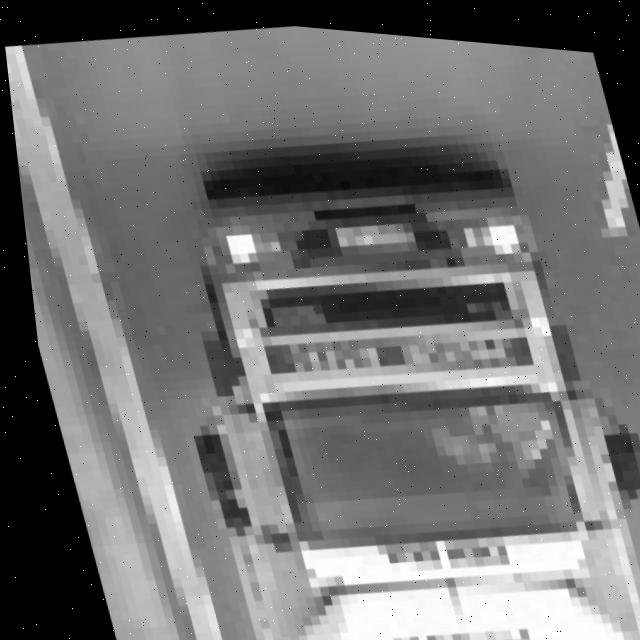truck: (79, 59, 640, 640)
